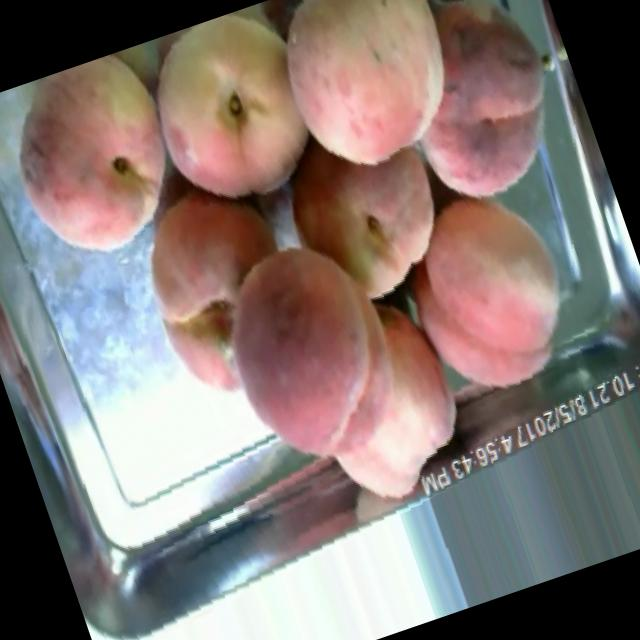Fruit: (107, 142, 386, 473), (367, 158, 600, 422), (351, 0, 603, 229), (250, 90, 480, 334), (121, 0, 345, 238), (281, 280, 494, 527), (0, 41, 211, 285), (256, 0, 498, 199)
